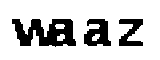a: (83, 15, 112, 52), (53, 17, 78, 50)
w: (9, 15, 53, 49)
z: (116, 17, 147, 48)
